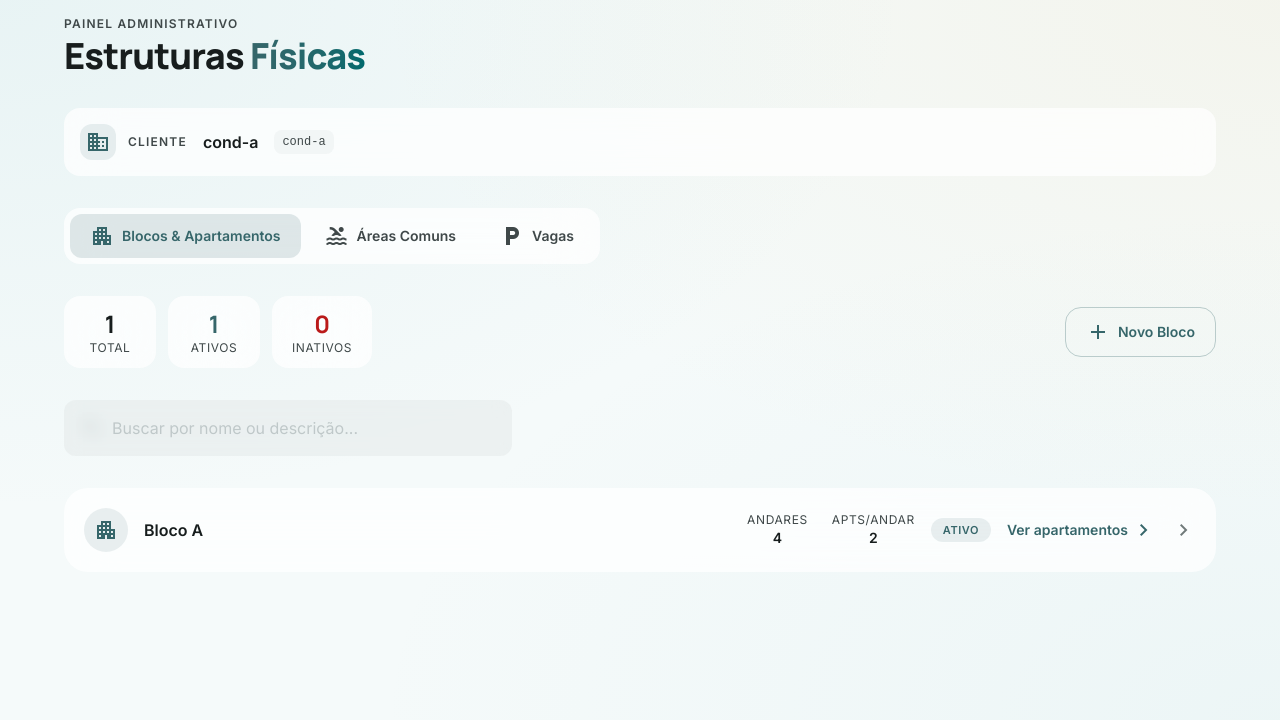
Test case: GerenciarEstruturas — áreas comuns › espaço sem exigência aparece como aprovação automática e sem antecedência
expect the button "Blocos & Apartamentos" is shown: met, box top-left (70, 214), bottom-right (301, 258)
Click the button "Áreas Comuns" at (390, 236), box top-left (305, 214), bottom-right (476, 258)
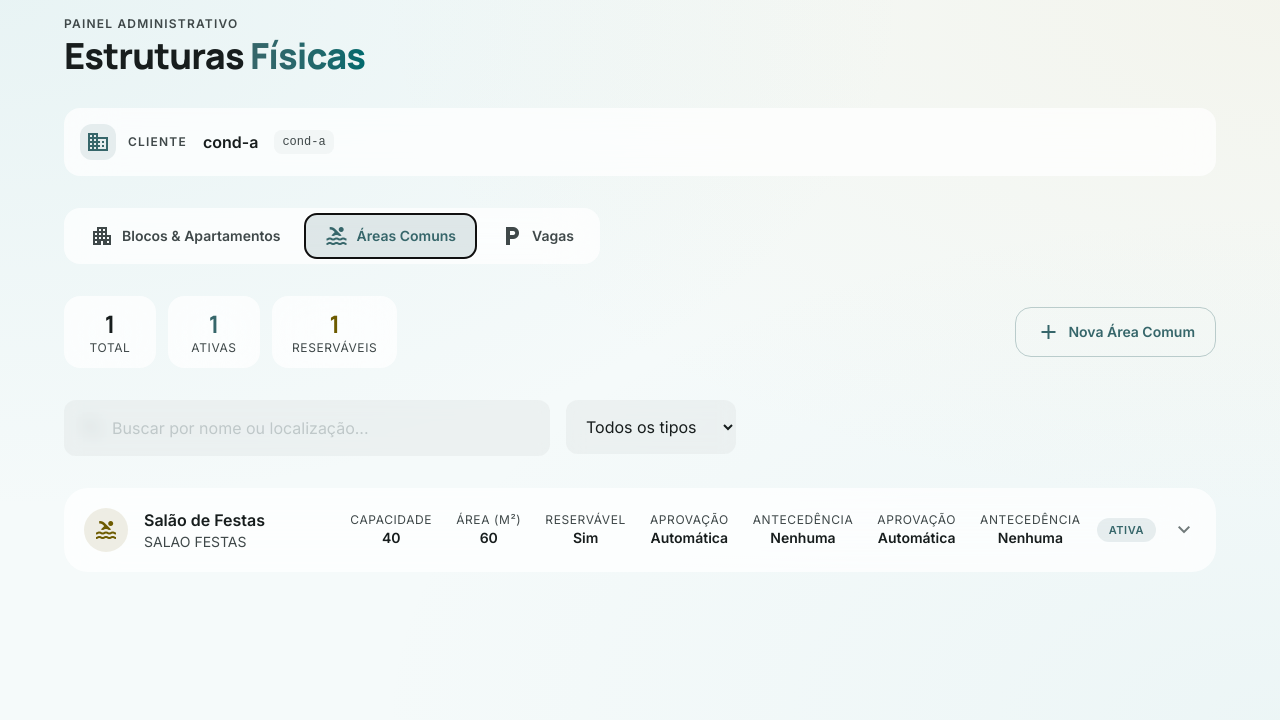
expect the text "Salão de Festas" is shown: met, box top-left (144, 510), bottom-right (265, 530)
expect the 1st text "Automática" is shown: met, box top-left (650, 528), bottom-right (729, 548)
expect the 1st text "Nenhuma" is shown: met, box top-left (770, 529), bottom-right (836, 546)
